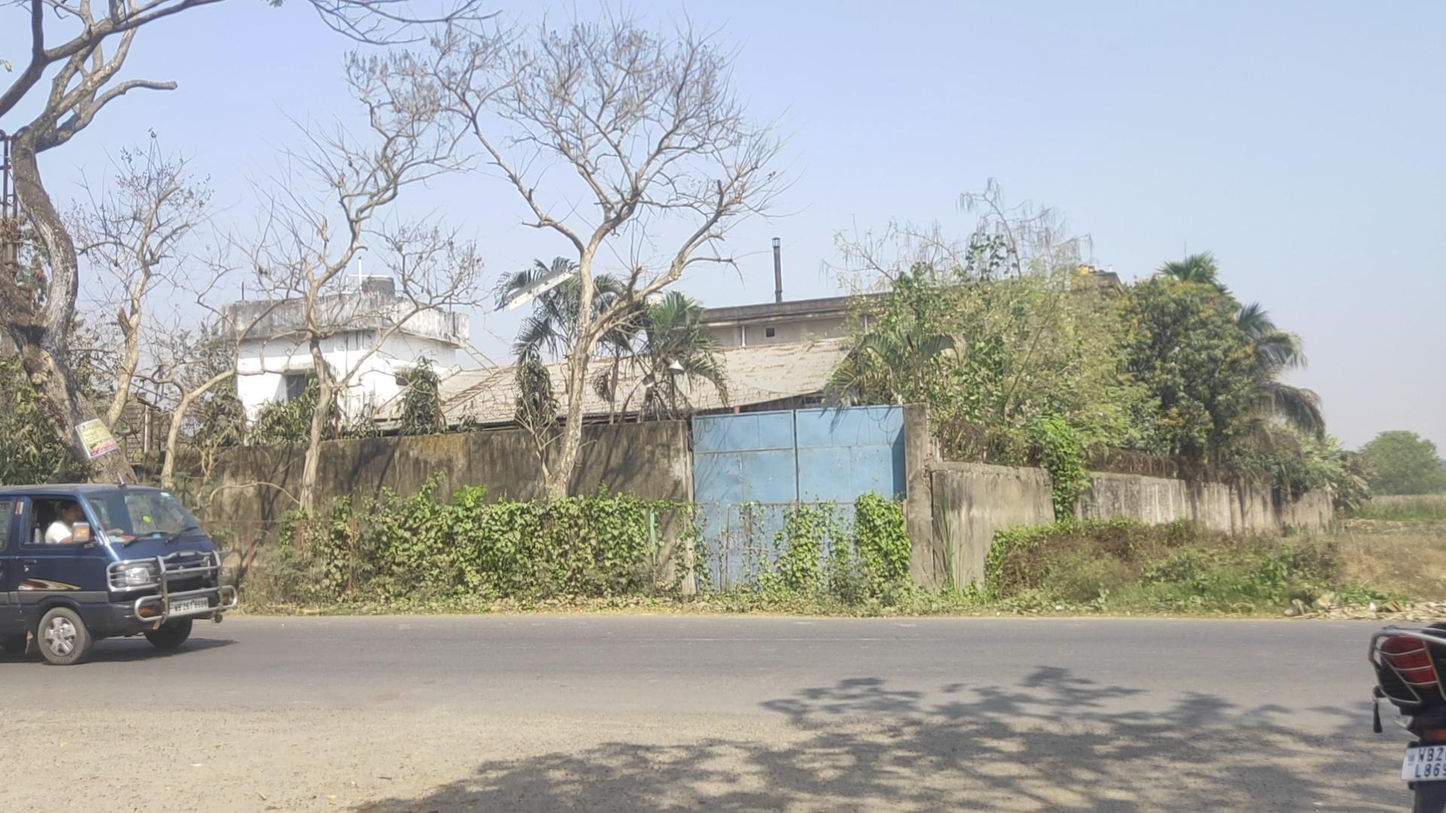van: (2, 480, 238, 666)
